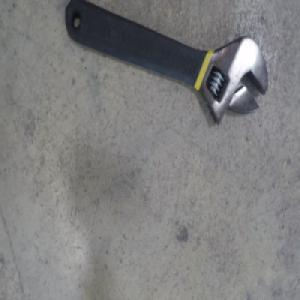AdjustableWrench: (65, 0, 270, 124)
